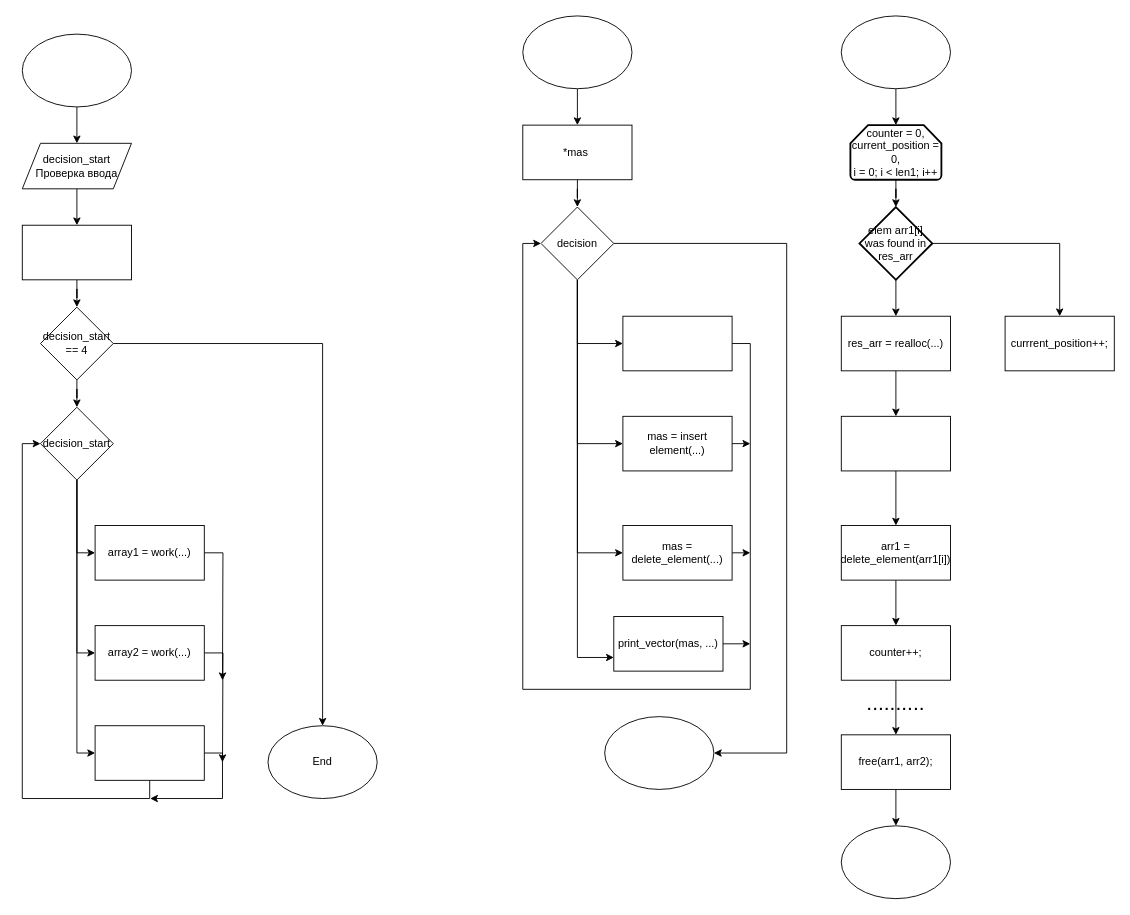
The diagram is 1130 pixels wide and 915 high, and some of its shapes have lost their labels. The centre of each missing label's shape, as x and y in pixels:
do_task(...): point 895,52
length1, length2 *array1, *array2, *res_arr: point 76,252
mas = initialize(..): point 677,343
res_arr = do_task(...): point 149,752
res_arr[counter] = arr1[current_position]: point 895,443
return mas: point 659,752
return res_arr: point 895,862
Work(...): point 577,52
Старт: point 76,70
